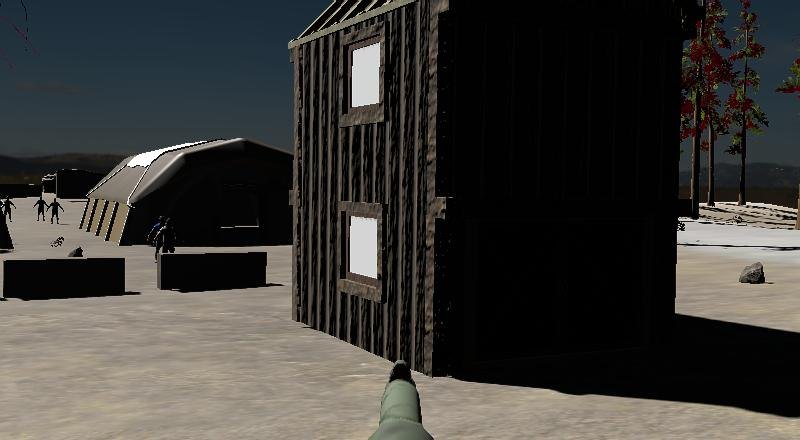House: (286, 1, 705, 375)
Human: (154, 218, 178, 255), (145, 216, 164, 249), (47, 197, 64, 224), (3, 195, 17, 223), (32, 197, 46, 223)
